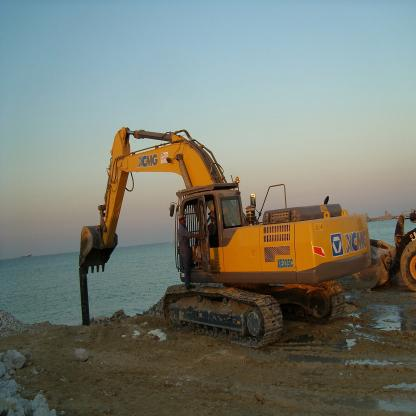excavator: (74, 109, 377, 364)
